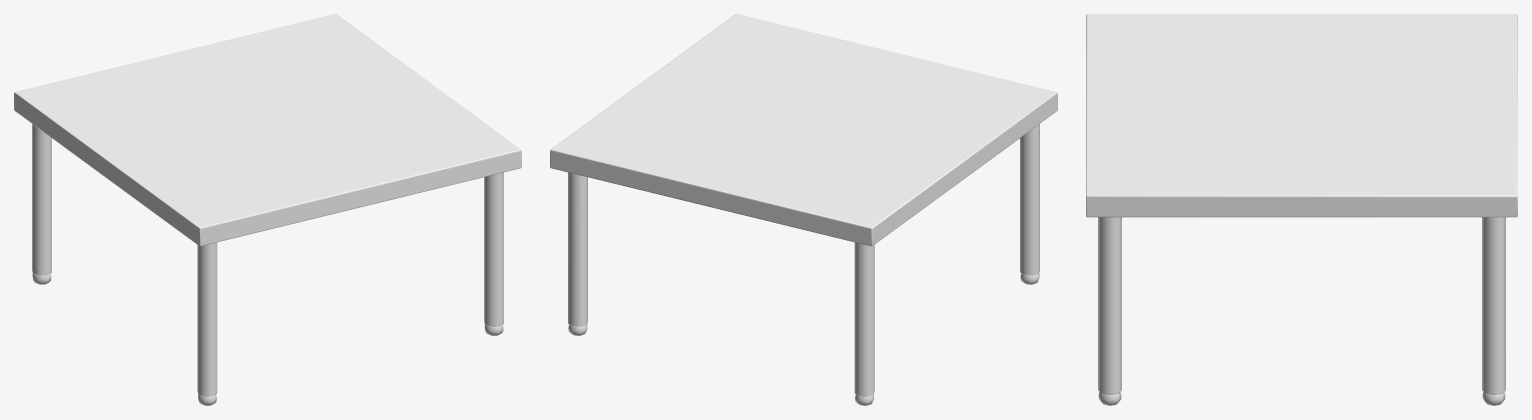
File: WorkStationReturnTable.fbx
3 renders of one model, left to right at view 1: azimuth 30°, elevation 25°; view 2: azimuth 150°, elevation 25°; view 3: azimuth 270°, elevation 25°, orthographic. The views are drawn at different scales.
Visible parts, largest first — view 1: WorkingstationReturnTable; view 2: WorkingstationReturnTable; view 3: WorkingstationReturnTable.
Part boxes in pixels (box(x1,y1,x2,y2)): WorkingstationReturnTable: box(14, 14, 521, 405); WorkingstationReturnTable: box(550, 14, 1057, 405); WorkingstationReturnTable: box(1086, 14, 1517, 405).
Bounding box in the file's own units: 90 × 50 × 90.
1 material, 1 textured.
